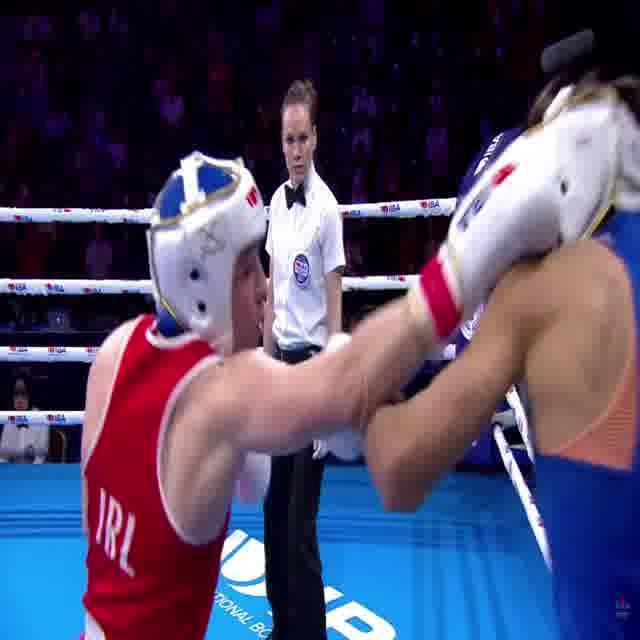blue-player: (319, 69, 640, 640)
red-player: (77, 116, 618, 640)
referee: (250, 74, 345, 640)
